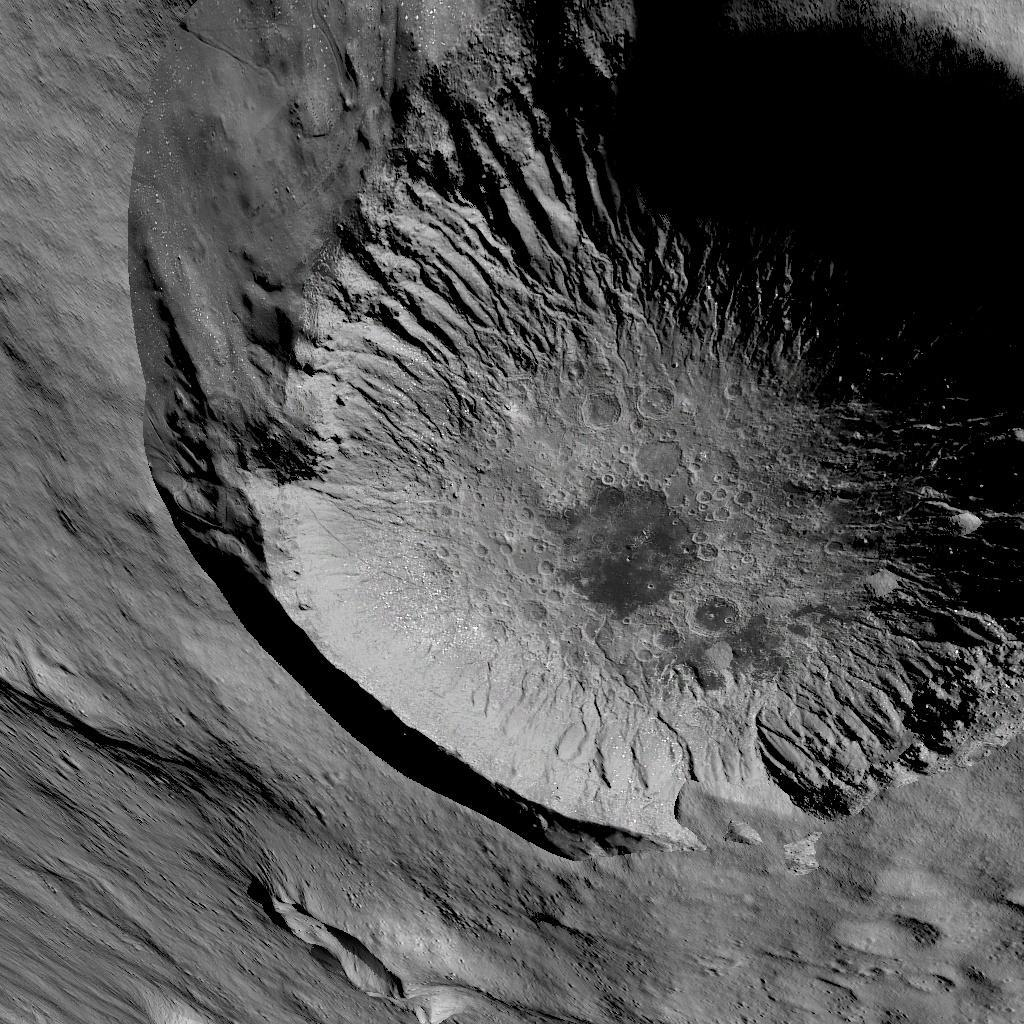Crater: (112, 2, 1023, 863), (224, 885, 410, 1005)
Plan surface: (480, 907, 1024, 1024)
